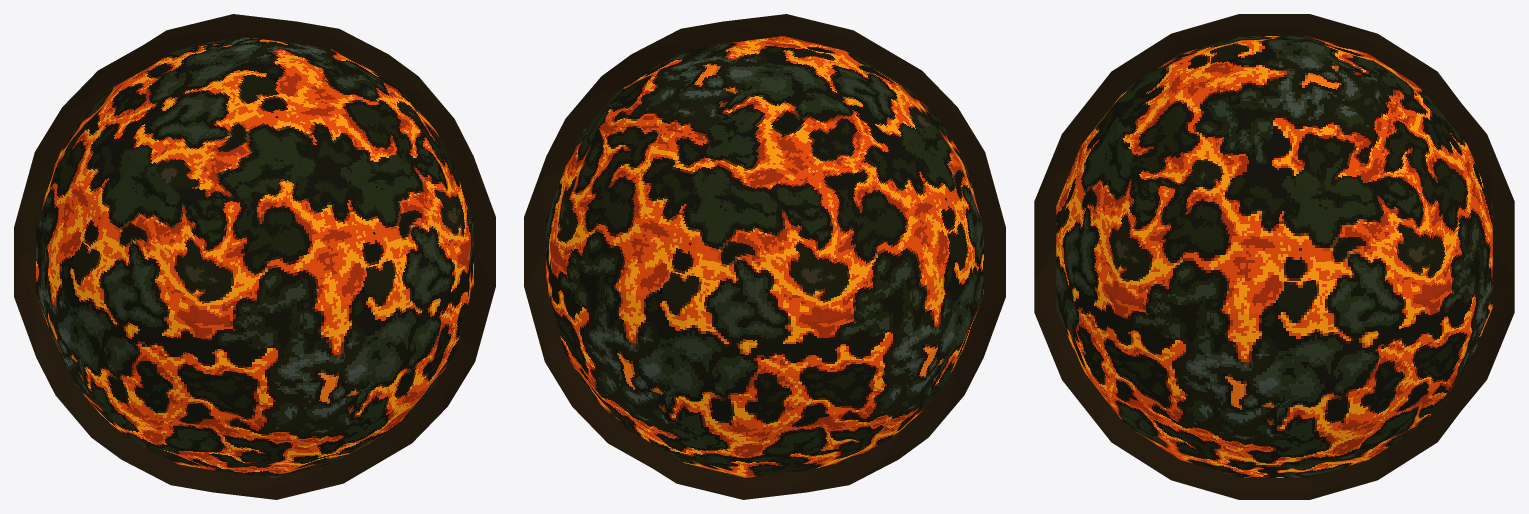
The model's file is planet3_compressed.glb.
3 views of the same model, side by side, from view 1: azimuth 30°, elevation 25°; view 2: azimuth 150°, elevation 25°; view 3: azimuth 270°, elevation 25° (orthographic).
Bounding box in the file's own units: 3.7 × 3.7 × 3.7.
1 material, 1 textured.
